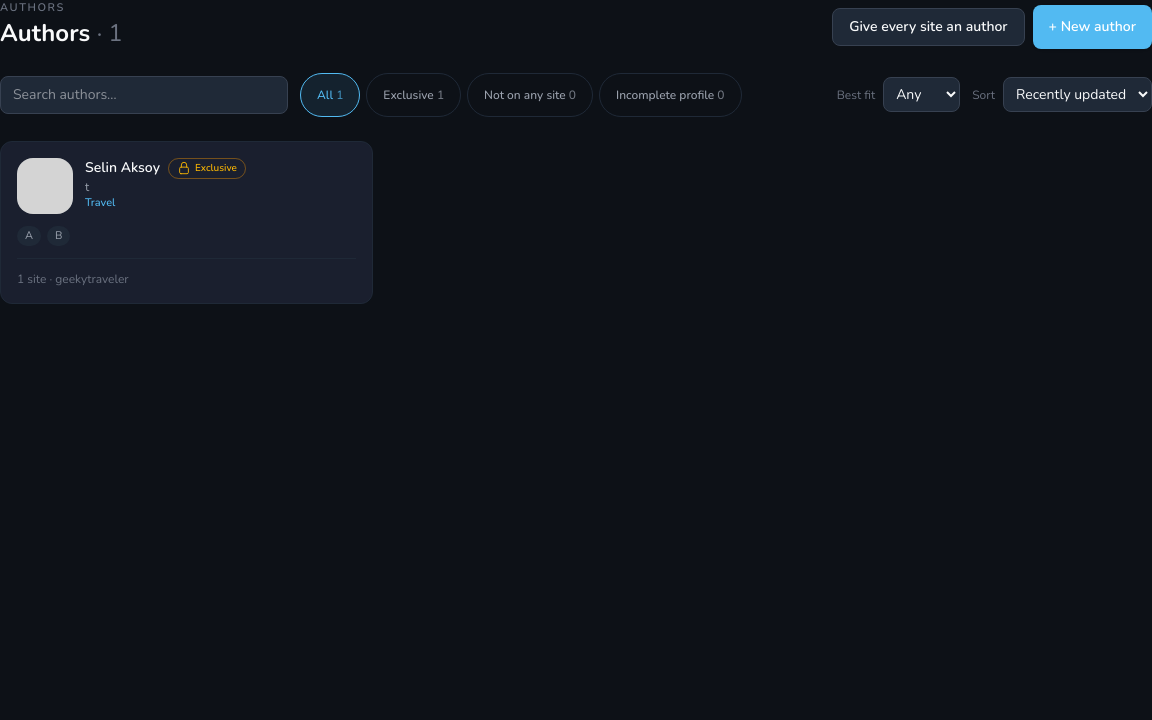
Test: Give every site an author: two sites per author › previews the plan: existing authors take a second site, the rest are paired by category; scoopella is kept for Ella
The width and height of the screenshot is (1152, 720).
Click the button "Give every site an author" at (928, 26), box [832, 8, 1025, 46]
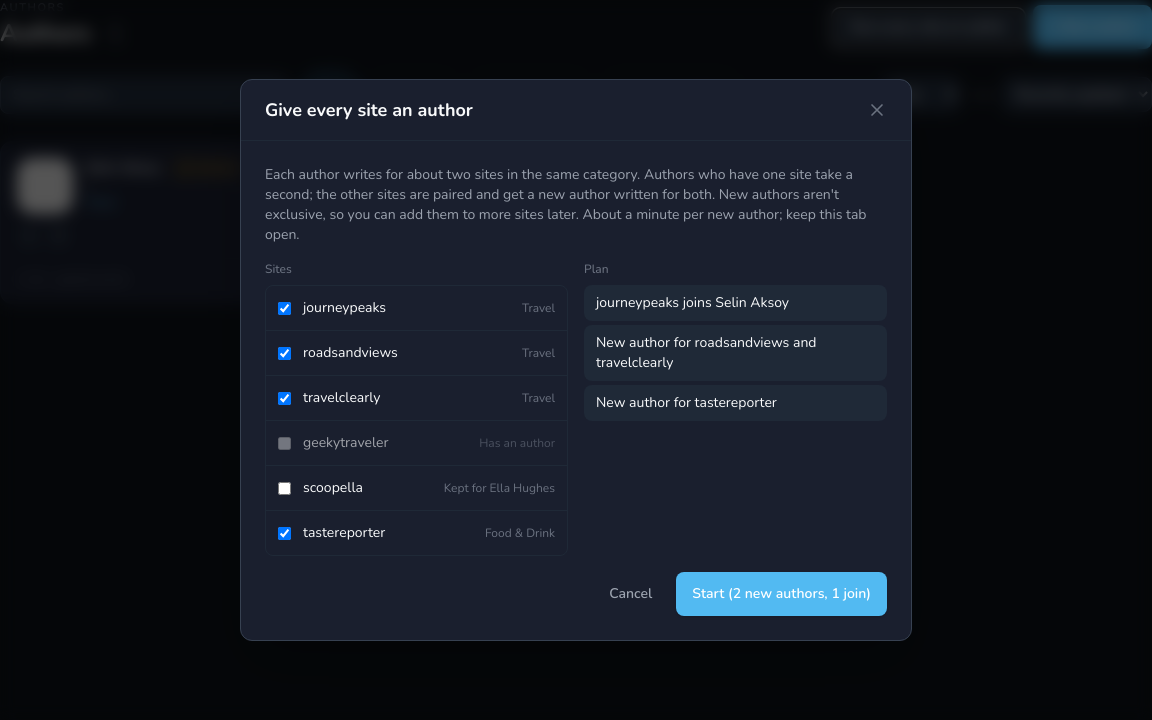
Check: the checkbox labelled "scoopella Kept for Ella Hughes" is not checked, box [278, 482, 291, 494]
Check: the text "Kept for Ella Hughes" is shown, box [444, 480, 555, 496]
Check: the checkbox labelled "geekytraveler Has an author" is disabled, box [278, 436, 291, 450]
